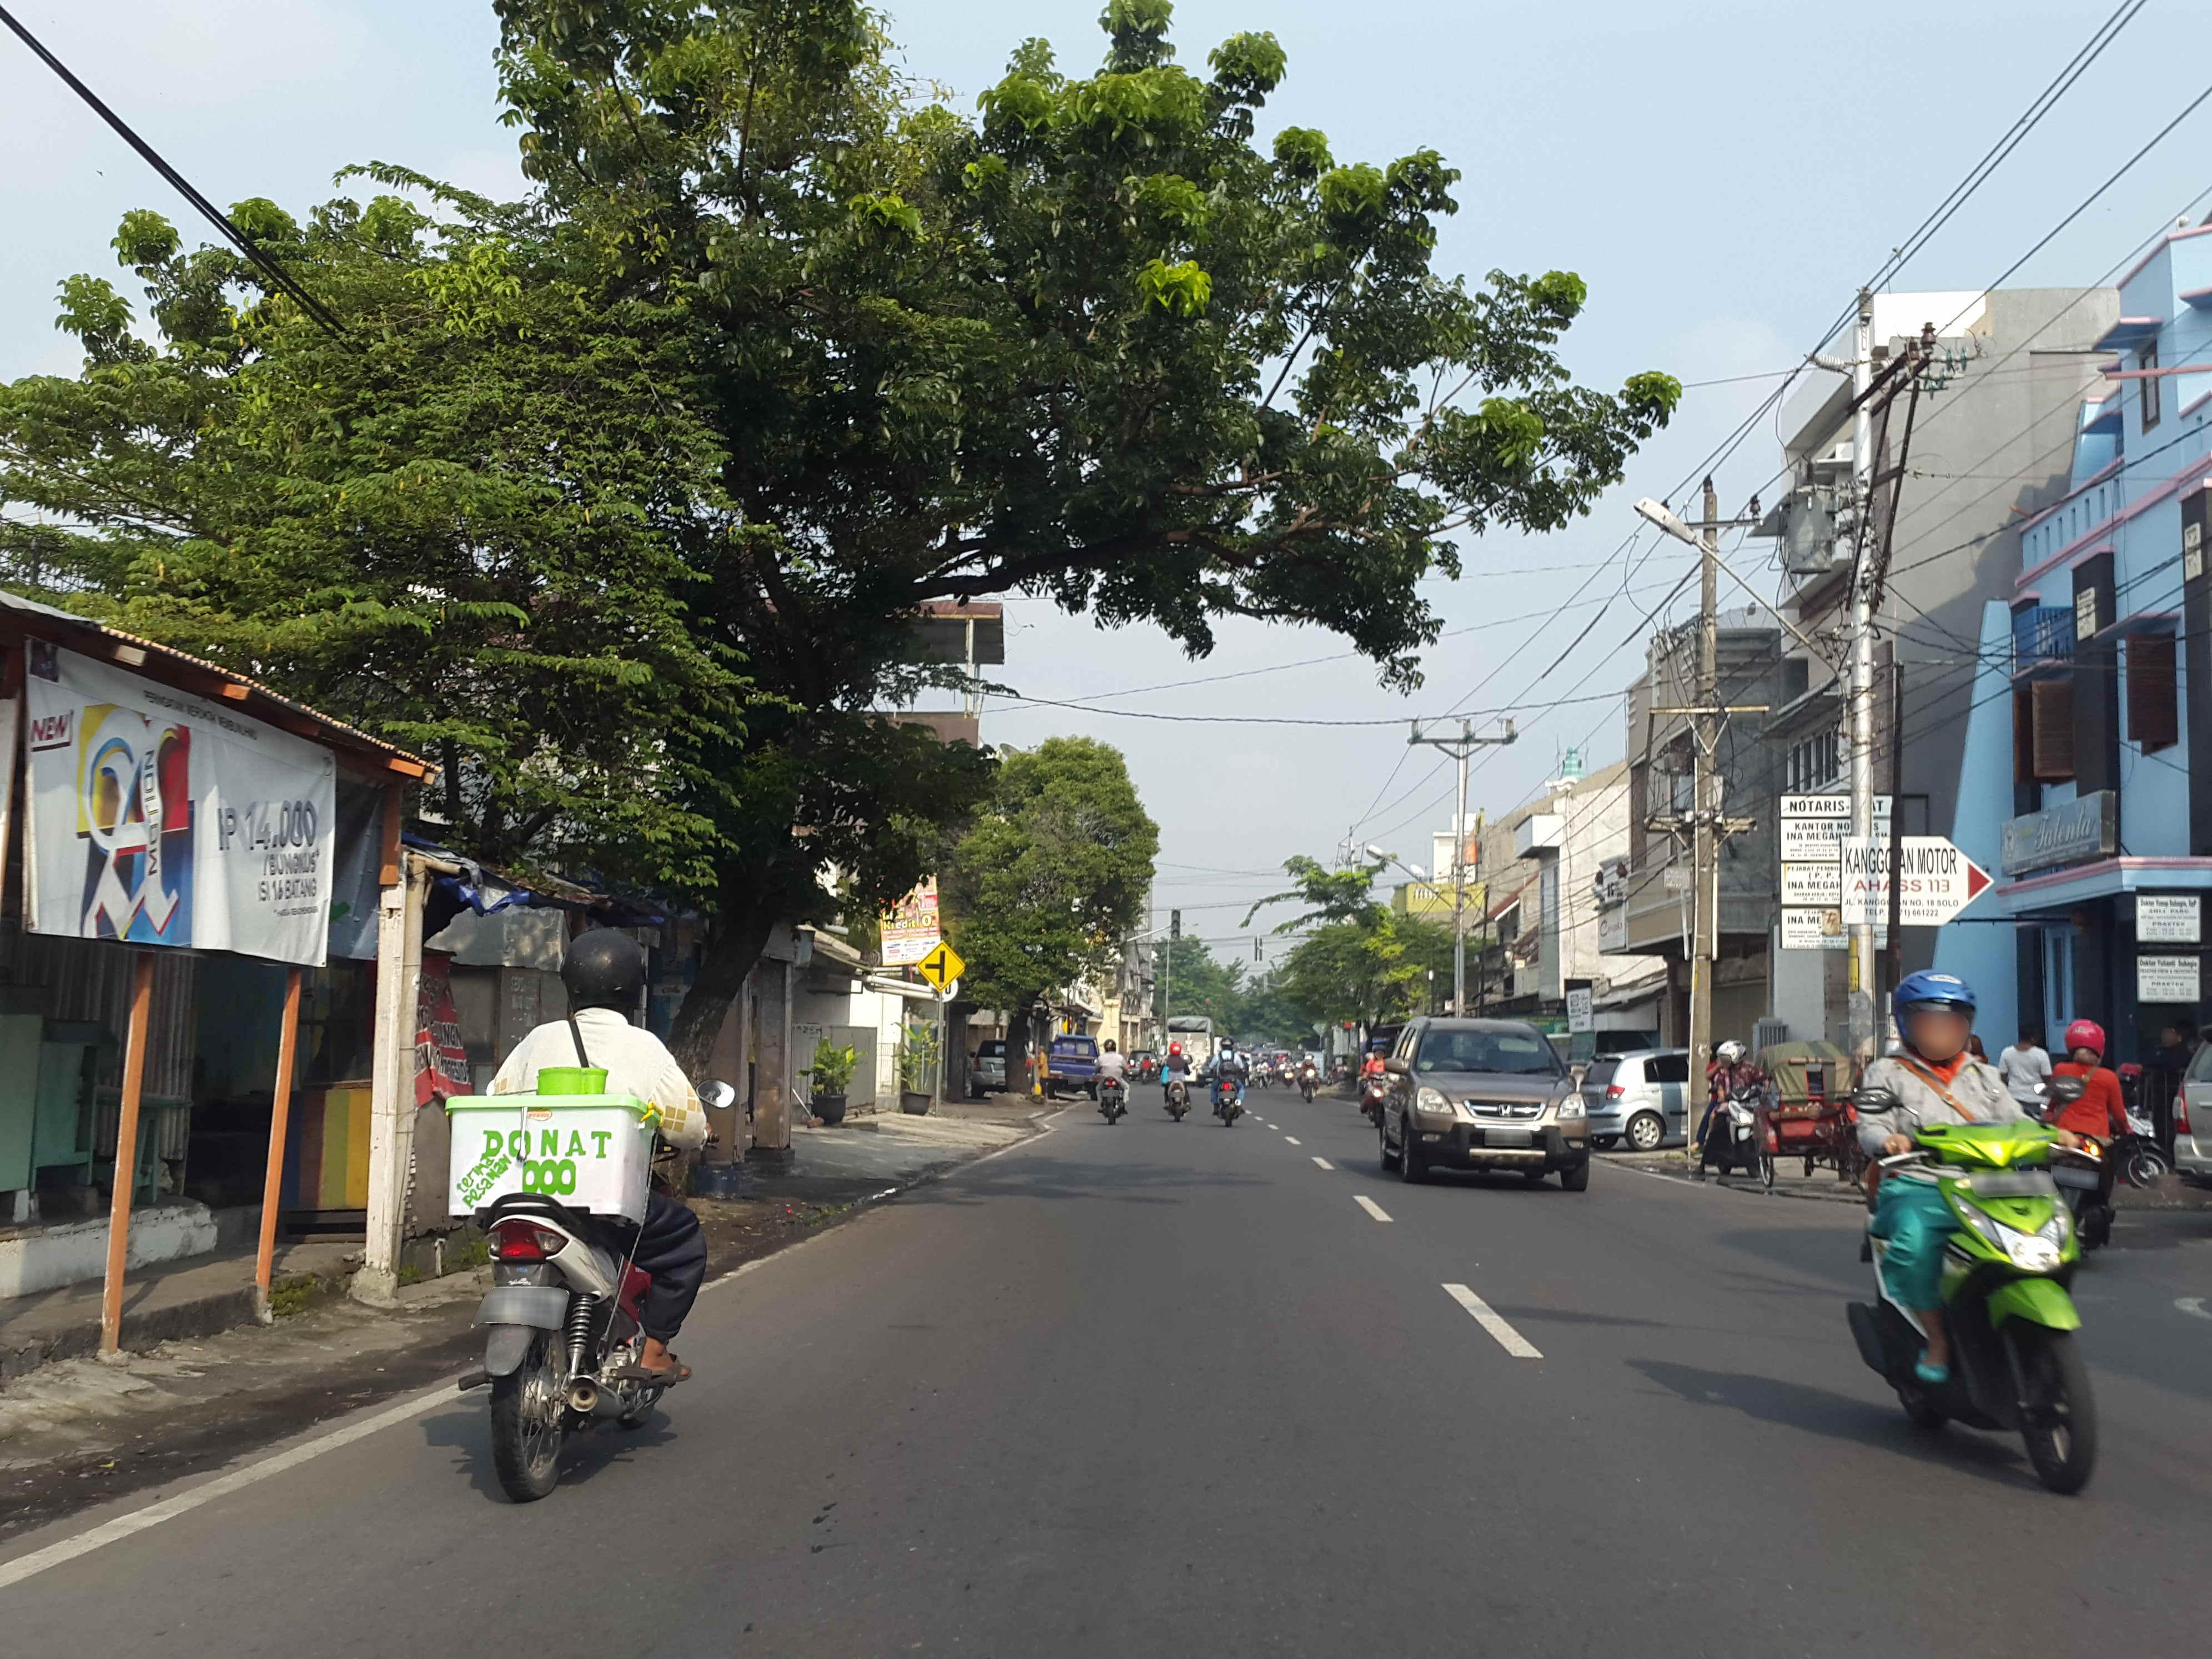vinyl banner: (17, 612, 390, 1012)
